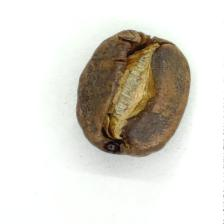NG: (99, 47, 169, 155)
